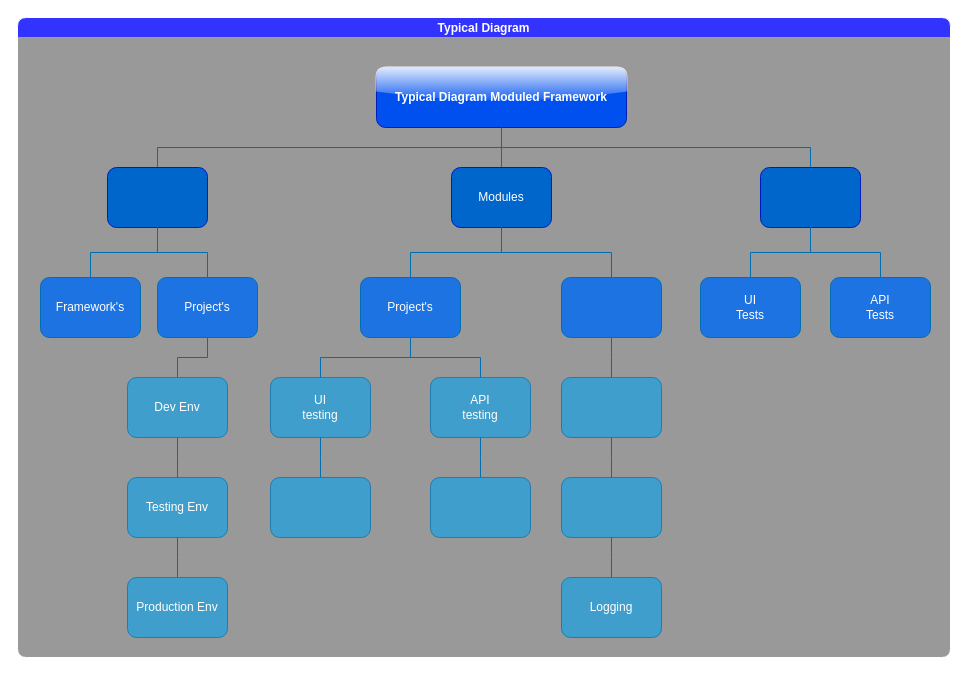
Image size: 968x675. Some labels were removed from this diagram. The shapes that lost their labels are listed below. From the top down, each one's centre as x and y in pixels, then its label:
pixel 157 197: Config Files
pixel 810 197: Tests
pixel 611 307: General
pixel 611 407: Data Generatiors
pixel 320 507: Pages
pixel 480 507: API clients
pixel 611 507: Manipulations of Files
